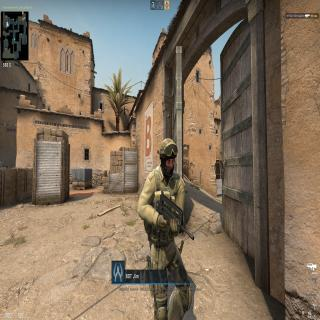CT-Head: (157, 134, 179, 180)
